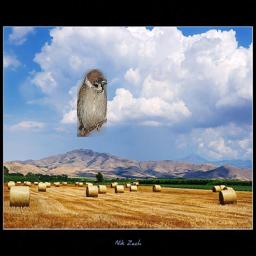Sparrow: (77, 69, 107, 137)
